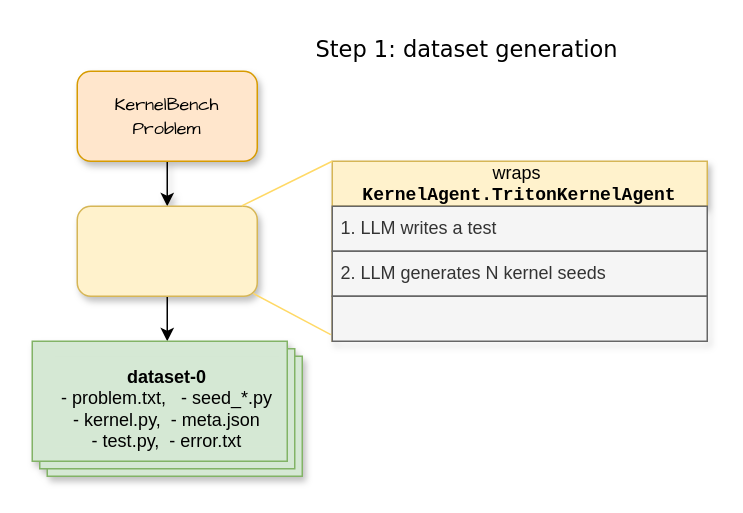
Image size: 743x513. Some labels were removed from this diagram. Each missing label, with the centre of its shape:
"3. N workers write kernel iteratively" goes at pixel 519 318.
"generator.py" goes at pixel 168 253.
